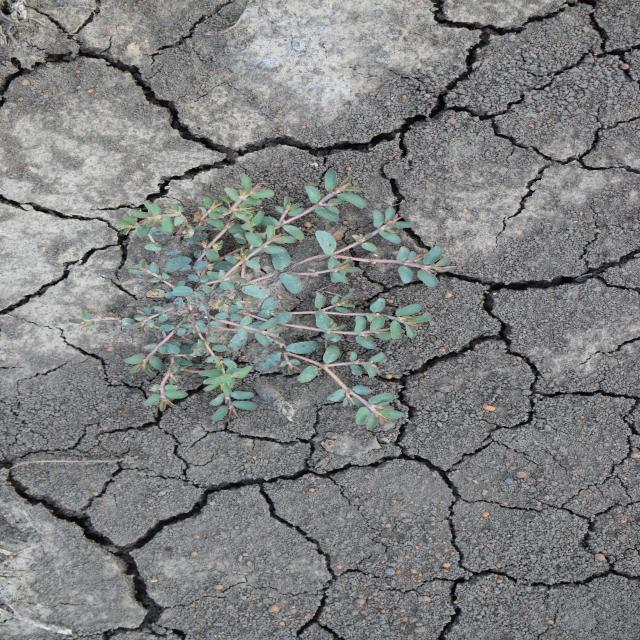SpottedSpurge: (77, 166, 460, 432)
